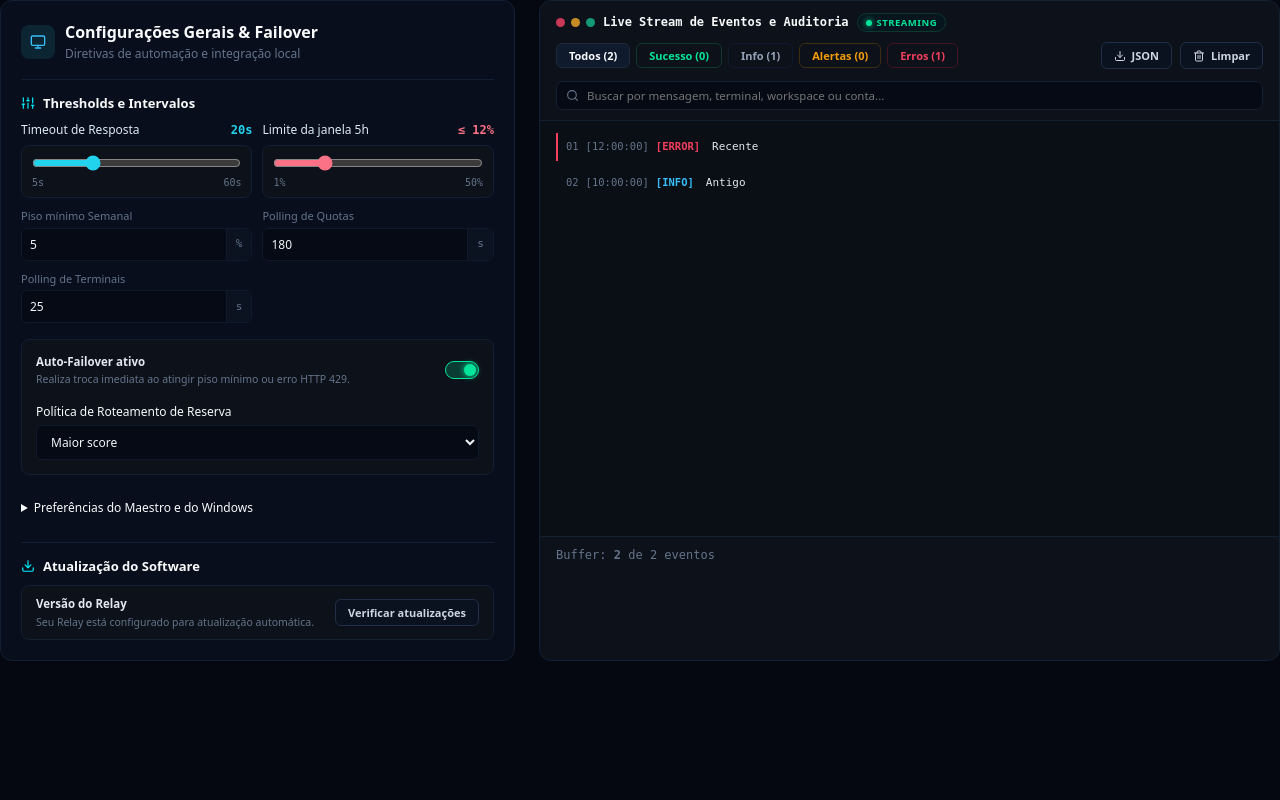
Test: ordena logs por data, filtra e exige confirmação para limpar
This screenshot has width=1280, height=800.
Later steps or results of the test are not shown.
Click the button "Erros (1)" at (923, 56), box [887,43,958,68]
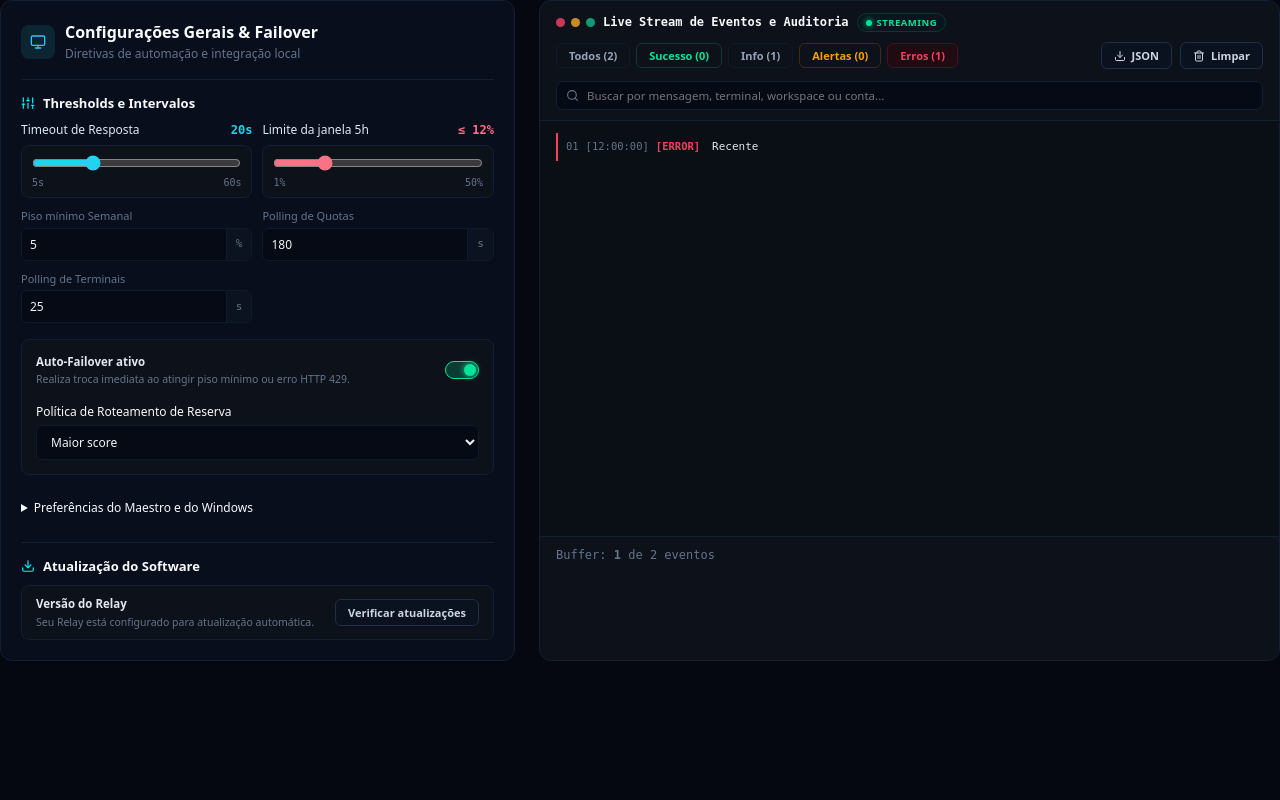
Result: the text "Antigo" is gone
